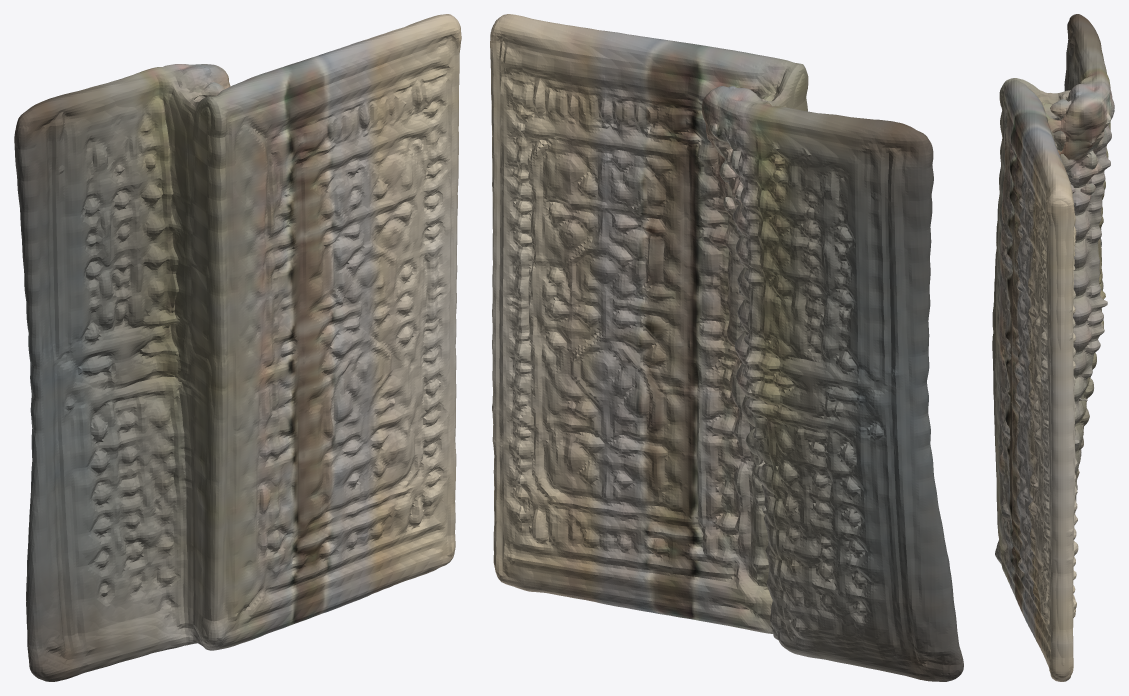
The picture shows the model from 3 angles, left to right: view 1: azimuth 30°, elevation 25°; view 2: azimuth 150°, elevation 25°; view 3: azimuth 270°, elevation 25°; orthographic projection. The views are drawn at different scales.
Visible parts, largest first — view 1: geometry_0; view 2: geometry_0; view 3: geometry_0.
Part boxes in pixels (x1,y1,x2,y2): geometry_0: [14, 14, 461, 681]; geometry_0: [490, 14, 963, 681]; geometry_0: [992, 14, 1114, 681].
Size of the model in its own units: 0.8095 by 0.9788 by 0.2155.
